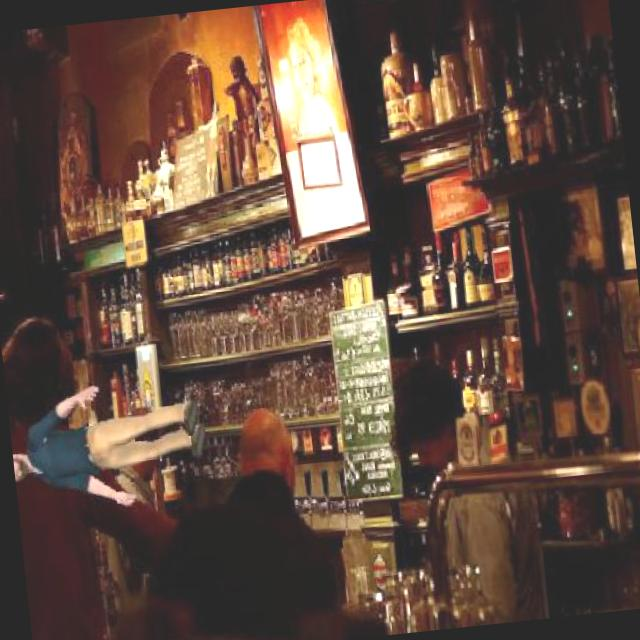Person: (6, 370, 213, 524)
